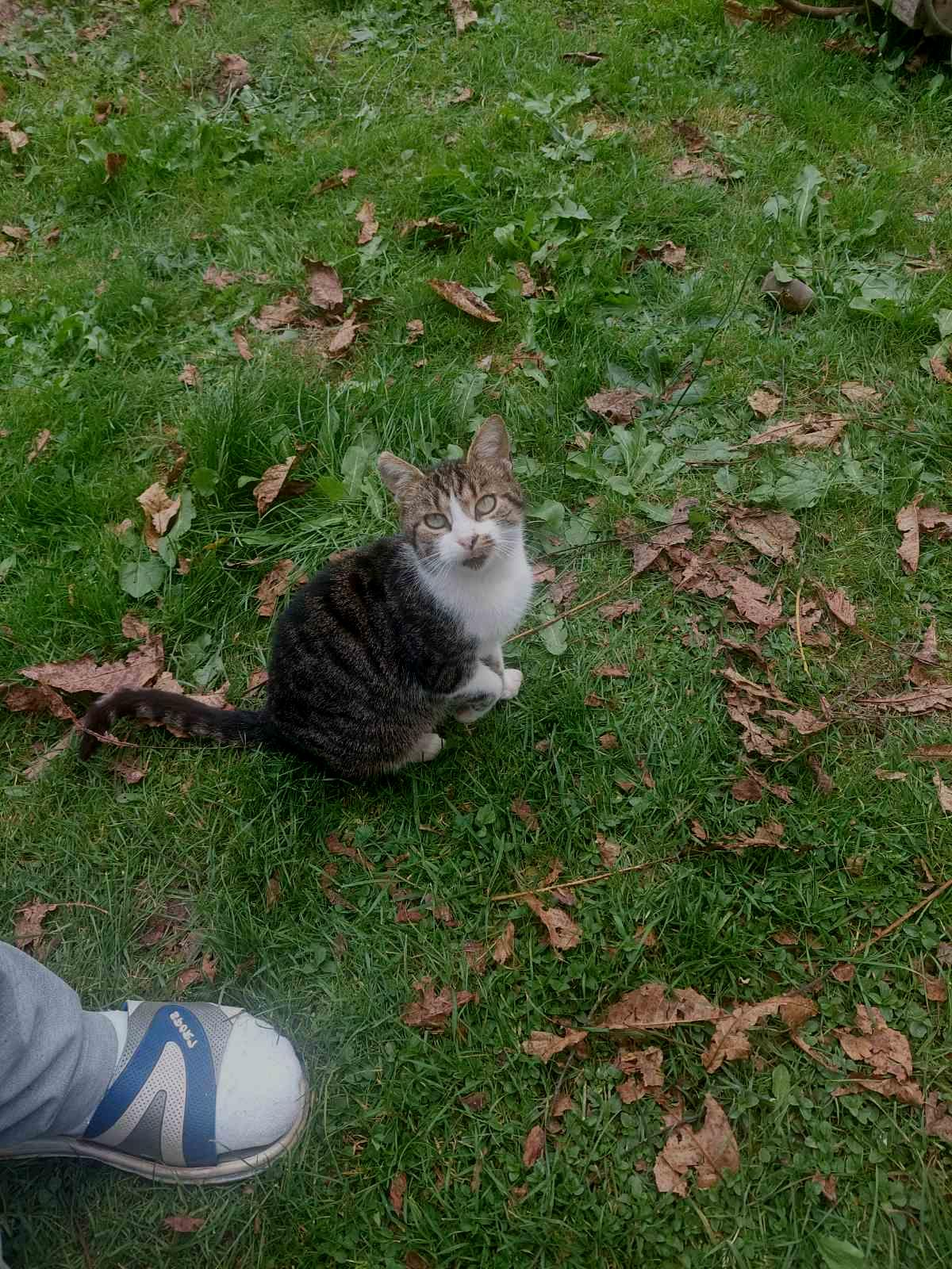macka: (77, 414, 536, 787)
